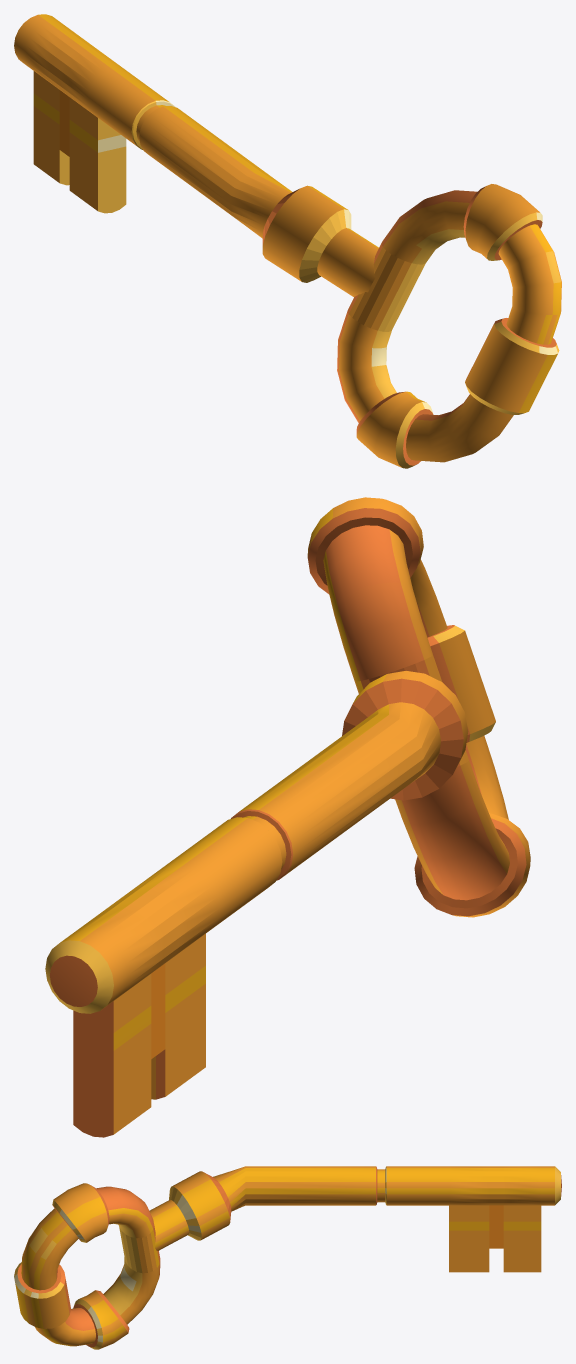
File: PL_Assets_TreasureKey_BROKEN.fbx
3 views of the same model, one above another, from view 1: azimuth 30°, elevation 25°; view 2: azimuth 150°, elevation 25°; view 3: azimuth 270°, elevation 25° (orthographic). The views are drawn at different scales.
Visible parts, largest first — view 1: pTorus10; view 2: pTorus10; view 3: pTorus10.
Part boxes in pixels (x1=…): pTorus10: x1=14, y1=14, x2=561, y2=468; pTorus10: x1=45, y1=497, x2=530, y2=1137; pTorus10: x1=14, y1=1166, x2=561, y2=1349.
Bounding box in the file's own units: 8.45 × 10.92 × 29.01.
